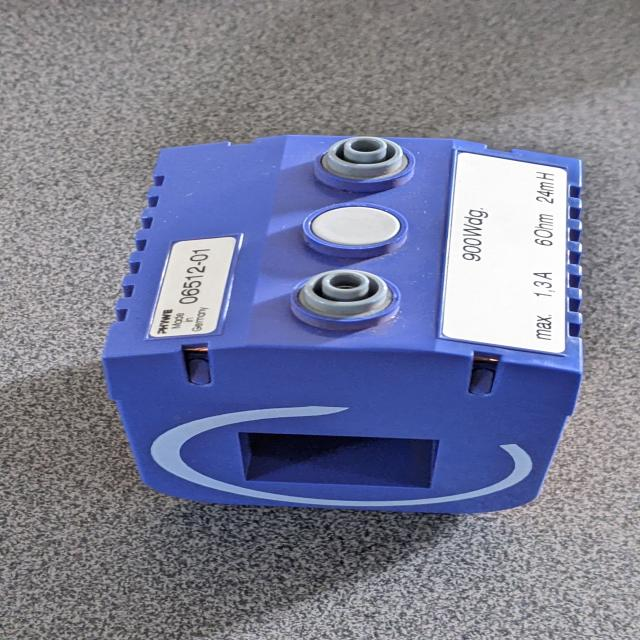Solenoid: (65, 125, 610, 536)
